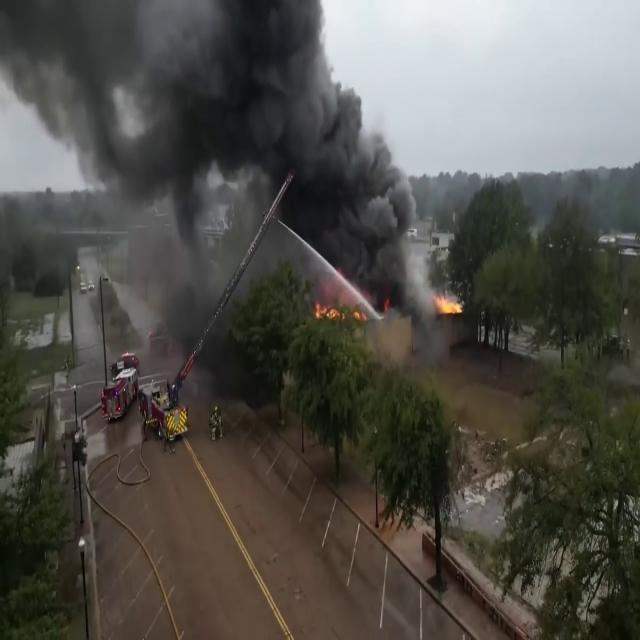Fire: (433, 287, 463, 321)
Smoke: (0, 0, 418, 319)
